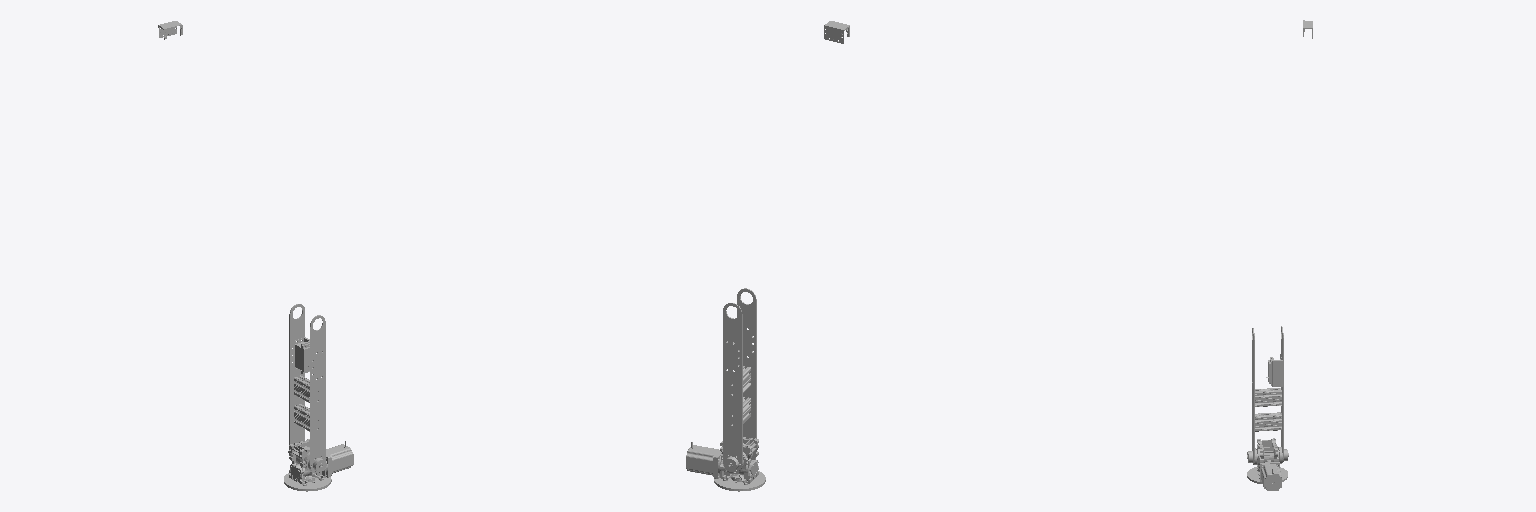
URDF robot description (Arm Assembly URDF 2.SLDASM):
<?xml version="1.0" encoding="utf-8"?>
<!-- This URDF was automatically created by SolidWorks to URDF Exporter! Originally created by Stephen Brawner ([email redacted]) 
     Commit Version: 1.6.0-4-g7f85cfe  Build Version: 1.6.7995.38578
     For more information, please see http://wiki.ros.org/sw_urdf_exporter -->
<robot
  name="Arm Assembly URDF 2.SLDASM">
  <link
    name="base_link">
    <inertial>
      <origin
        xyz="0.1463 0.022736 0.078618"
        rpy="0 0 0" />
      <mass
        value="2.2785" />
      <inertia
        ixx="0.0038044"
        ixy="-0.00020619"
        ixz="0.00015099"
        iyy="0.0048644"
        iyz="1.9405E-05"
        izz="0.0072065" />
    </inertial>
    <visual>
      <origin
        xyz="0 0 0"
        rpy="0 0 0" />
      <geometry>
        <mesh
          filename="package://Arm Assembly URDF 2.SLDASM/meshes/base_link.STL" />
      </geometry>
      <material
        name="">
        <color
          rgba="0.75294 0.75294 0.75294 1" />
      </material>
    </visual>
    <collision>
      <origin
        xyz="0 0 0"
        rpy="0 0 0" />
      <geometry>
        <mesh
          filename="package://Arm Assembly URDF 2.SLDASM/meshes/base_link.STL" />
      </geometry>
    </collision>
  </link>
  <link
    name="link_1">
    <inertial>
      <origin
        xyz="0.030645 0.28134 0.37221"
        rpy="0 0 0" />
      <mass
        value="0.64188" />
      <inertia
        ixx="0.00046554"
        ixy="2.9254E-05"
        ixz="2.0334E-05"
        iyy="0.0006173"
        iyz="-3.9807E-06"
        izz="0.00062636" />
    </inertial>
    <visual>
      <origin
        xyz="0 0 0"
        rpy="0 0 0" />
      <geometry>
        <mesh
          filename="package://Arm Assembly URDF 2.SLDASM/meshes/link_1.STL" />
      </geometry>
      <material
        name="">
        <color
          rgba="0.75294 0.75294 0.75294 1" />
      </material>
    </visual>
    <collision>
      <origin
        xyz="0 0 0"
        rpy="0 0 0" />
      <geometry>
        <mesh
          filename="package://Arm Assembly URDF 2.SLDASM/meshes/link_1.STL" />
      </geometry>
    </collision>
  </link>
  <joint
    name="joint_1"
    type="revolute">
    <origin
      xyz="0.004244 0.37679 -0.077856"
      rpy="1.5708 0 0" />
    <parent
      link="base_link" />
    <child
      link="link_1" />
    <axis
      xyz="0 0 0" />
    <limit
      lower="-3.142"
      upper="3.142"
      effort="28.35"
      velocity="5.24" />
  </joint>
  <link
    name="link_2">
    <inertial>
      <origin
        xyz="0.0099541 0.17391 0.063218"
        rpy="0 0 0" />
      <mass
        value="0.39467" />
      <inertia
        ixx="0.0020154"
        ixy="-4.8166E-07"
        ixz="-5.8976E-06"
        iyy="0.00014684"
        iyz="1.0489E-07"
        izz="0.0019725" />
    </inertial>
    <visual>
      <origin
        xyz="0 0 0"
        rpy="0 0 0" />
      <geometry>
        <mesh
          filename="package://Arm Assembly URDF 2.SLDASM/meshes/link_2.STL" />
      </geometry>
      <material
        name="">
        <color
          rgba="0.75294 0.75294 0.75294 1" />
      </material>
    </visual>
    <collision>
      <origin
        xyz="0 0 0"
        rpy="0 0 0" />
      <geometry>
        <mesh
          filename="package://Arm Assembly URDF 2.SLDASM/meshes/link_2.STL" />
      </geometry>
    </collision>
  </link>
  <joint
    name="joint_2"
    type="revolute">
    <origin
      xyz="-0.012914 0.30834 0.30736"
      rpy="0 0 0" />
    <parent
      link="link_1" />
    <child
      link="link_2" />
    <axis
      xyz="-0.12539 0 -0.99211" />
    <limit
      lower="-1.57"
      upper="1.57"
      effort="28.35"
      velocity="5.24" />
  </joint>
  <link
    name="link_3">
    <inertial>
      <origin
        xyz="-0.10173 -0.0001357 0.11249"
        rpy="0 0 0" />
      <mass
        value="0.25926" />
      <inertia
        ixx="8.8206E-05"
        ixy="1.9129E-08"
        ixz="0.00014725"
        iyy="0.0012488"
        iyz="5.7329E-08"
        izz="0.0012348" />
    </inertial>
    <visual>
      <origin
        xyz="0 0 0"
        rpy="0 0 0" />
      <geometry>
        <mesh
          filename="package://Arm Assembly URDF 2.SLDASM/meshes/link_3.STL" />
      </geometry>
      <material
        name="">
        <color
          rgba="0.75294 0.75294 0.75294 1" />
      </material>
    </visual>
    <collision>
      <origin
        xyz="0 0 0"
        rpy="0 0 0" />
      <geometry>
        <mesh
          filename="package://Arm Assembly URDF 2.SLDASM/meshes/link_3.STL" />
      </geometry>
    </collision>
  </link>
  <joint
    name="joint_3"
    type="revolute">
    <origin
      xyz="-0.0040938 0.4064 -0.03239"
      rpy="0 0 0" />
    <parent
      link="link_2" />
    <child
      link="link_3" />
    <axis
      xyz="-0.12539 0 -0.99211" />
    <limit
      lower="-1"
      upper="3.14"
      effort="7.85"
      velocity="6.54" />
  </joint>
  <link
    name="link_4">
    <inertial>
      <origin
        xyz="0.0095608 0.028865 0.073554"
        rpy="0 0 0" />
      <mass
        value="0.18732" />
      <inertia
        ixx="0.00013117"
        ixy="4.7999E-09"
        ixz="-3.8256E-06"
        iyy="0.00013344"
        iyz="1.726E-08"
        izz="0.00010591" />
    </inertial>
    <visual>
      <origin
        xyz="0 0 0"
        rpy="0 0 0" />
      <geometry>
        <mesh
          filename="package://Arm Assembly URDF 2.SLDASM/meshes/link_4.STL" />
      </geometry>
      <material
        name="">
        <color
          rgba="0.75294 0.75294 0.75294 1" />
      </material>
    </visual>
    <collision>
      <origin
        xyz="0 0 0"
        rpy="0 0 0" />
      <geometry>
        <mesh
          filename="package://Arm Assembly URDF 2.SLDASM/meshes/link_4.STL" />
      </geometry>
    </collision>
  </link>
  <joint
    name="joint_4"
    type="revolute">
    <origin
      xyz="-0.34442 0 0.071345"
      rpy="0 0 0" />
    <parent
      link="link_3" />
    <child
      link="link_4" />
    <axis
      xyz="-0.12539 0 -0.99211" />
    <limit
      lower="-3.14"
      upper="0"
      effort="2.45"
      velocity="8.08" />
  </joint>
  <link
    name="link_5">
    <inertial>
      <origin
        xyz="-4.2784E-09 0.013259 2.6744E-09"
        rpy="0 0 0" />
      <mass
        value="0.0035244" />
      <inertia
        ixx="2.3046E-07"
        ixy="4.5068E-13"
        ixz="4.8524E-12"
        iyy="3.9951E-07"
        iyz="5.0116E-13"
        izz="2.3045E-07" />
    </inertial>
    <visual>
      <origin
        xyz="0 0 0"
        rpy="0 0 0" />
      <geometry>
        <mesh
          filename="package://Arm Assembly URDF 2.SLDASM/meshes/link_5.STL" />
      </geometry>
      <material
        name="">
        <color
          rgba="0.75294 0.75294 0.75294 1" />
      </material>
    </visual>
    <collision>
      <origin
        xyz="0 0 0"
        rpy="0 0 0" />
      <geometry>
        <mesh
          filename="package://Arm Assembly URDF 2.SLDASM/meshes/link_5.STL" />
      </geometry>
    </collision>
  </link>
  <joint
    name="joint_5"
    type="revolute">
    <origin
      xyz="0.0088696 0.071522 0.070177"
      rpy="0 0 0" />
    <parent
      link="link_4" />
    <child
      link="link_5" />
    <axis
      xyz="0 -1 0" />
    <limit
      lower="-3.14"
      upper="3.14"
      effort="2.45"
      velocity="8.08" />
  </joint>
</robot>

--- What the picture shows (computed from the rendered views, not written in the file) ---
Views: 3 orthographic renders of the robot side by side, from view 1: azimuth 30°, elevation 25°; view 2: azimuth 150°, elevation 25°; view 3: azimuth 270°, elevation 25°.
Robot: Arm Assembly URDF 2.SLDASM — 6 links, 5 joints (5 revolute); root link base_link; default pose: all joints at 0.
Links seen in each view (by area): view 1: link_2, link_1; view 2: link_2, link_1; view 3: link_2, link_1.
Link boxes in pixels (bbox=[...]): link_2: bbox=[288, 304, 326, 472]; link_1: bbox=[284, 439, 353, 491]; link_2: bbox=[723, 288, 756, 471]; link_1: bbox=[686, 437, 765, 491]; link_2: bbox=[1247, 326, 1288, 464]; link_1: bbox=[1247, 438, 1287, 490].
Bounding box of the posed robot: 0.5075 × 0.2037 × 1.37 m (x, y, z).
Meshes: 6 distinct files referenced, 3 mesh visuals loaded (3 binary STL); not drawn: 2 (reference not matched to a file when rendering), 1 (file found but could not be loaded).
